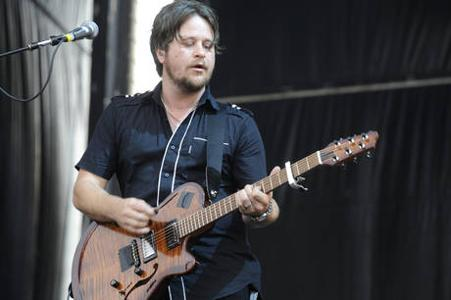person: (73, 4, 279, 299)
